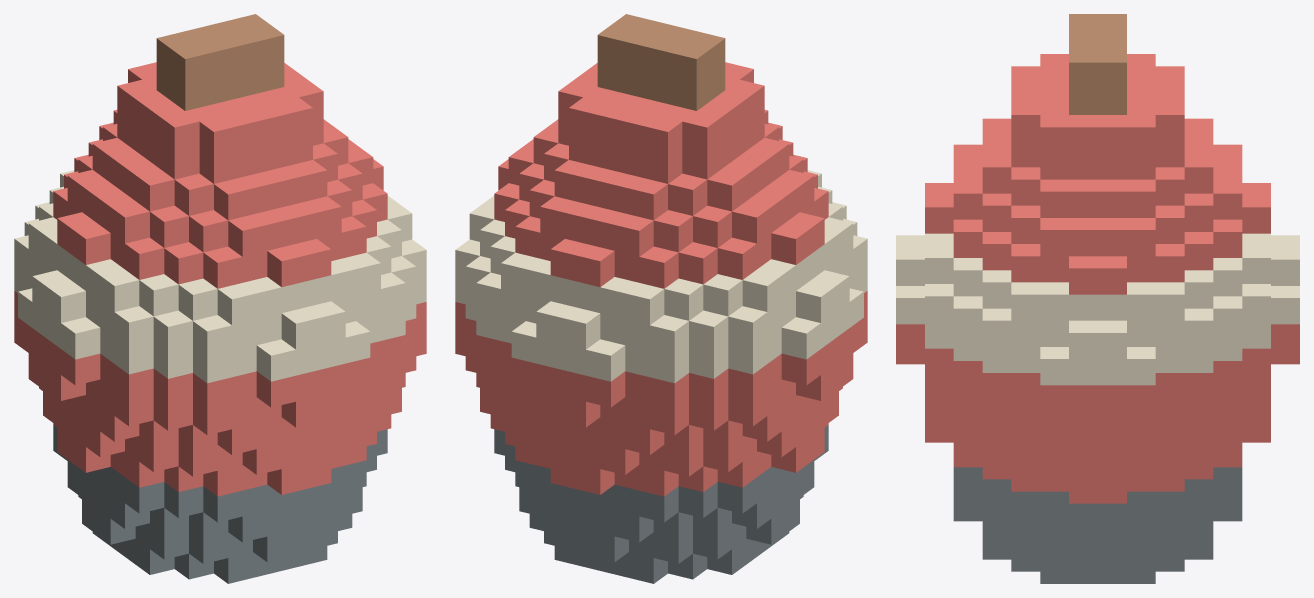
The model's file is marker_buoy.glb.
3 renders of one model, left to right at view 1: azimuth 30°, elevation 25°; view 2: azimuth 150°, elevation 25°; view 3: azimuth 270°, elevation 25°, orthographic.
Bounding box in the file's own units: 0.5833 × 0.7917 × 0.5833.
